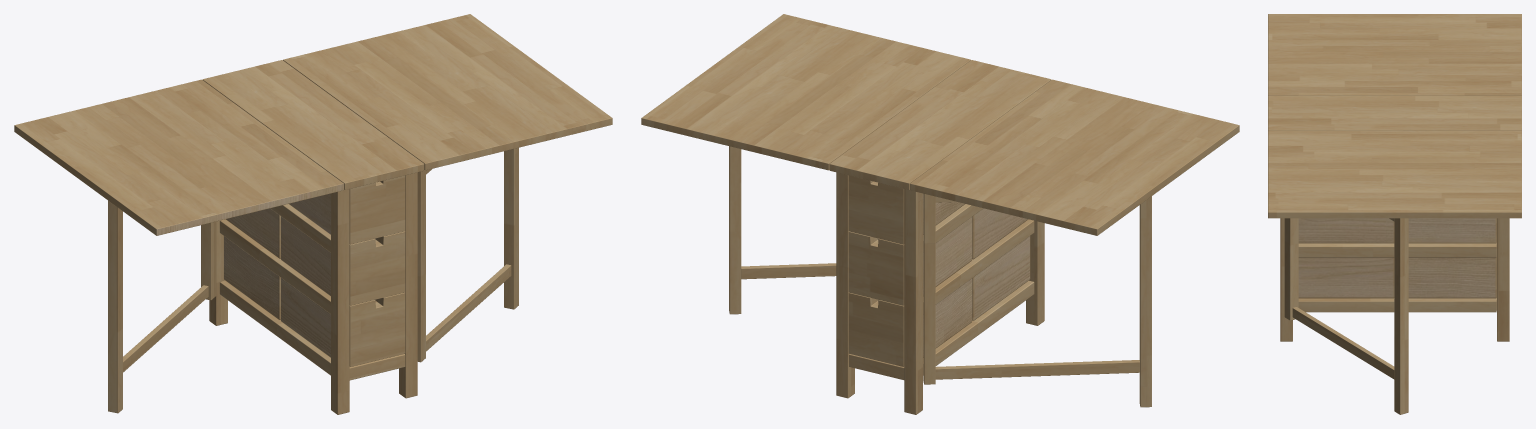
The model's file is table_52_02.001.fbx.
3 renders of one model, left to right at view 1: azimuth 30°, elevation 25°; view 2: azimuth 150°, elevation 25°; view 3: azimuth 270°, elevation 25°, orthographic. The views are drawn at different scales.
Visible parts, largest first — view 1: table_52_02.001; view 2: table_52_02.001; view 3: table_52_02.001.
Boxes of the visible parts, x1,y1,x2,y2 form: table_52_02.001: (14, 14, 612, 414); table_52_02.001: (641, 14, 1239, 414); table_52_02.001: (1268, 14, 1521, 414).
Size of the model in its own units: 148 by 73.5 by 80.
1 material, 1 textured.
